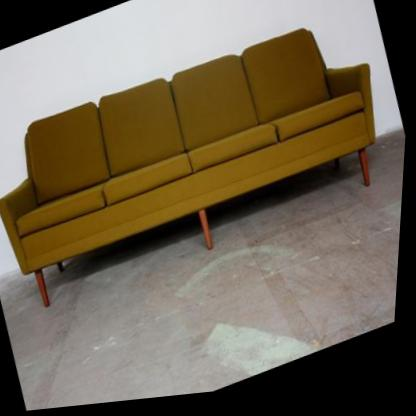Sofa: (0, 0, 407, 326)
